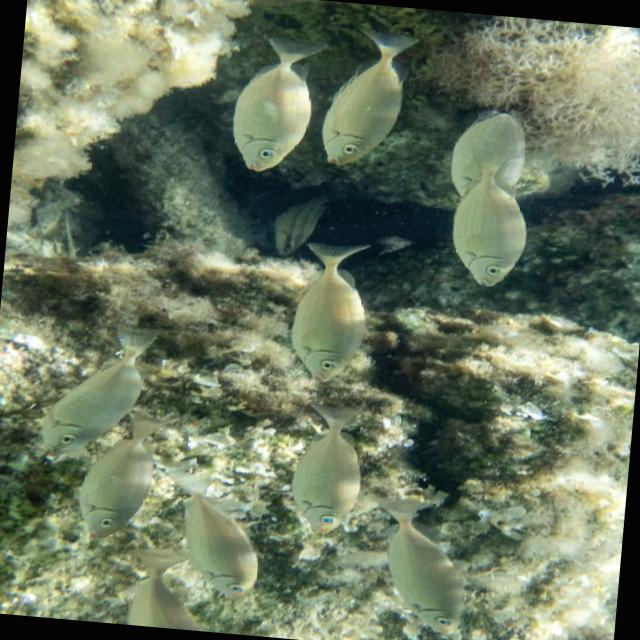Sokar Baligi: (310, 13, 442, 179), (359, 488, 490, 640), (442, 132, 562, 295), (274, 223, 388, 393), (214, 22, 330, 184), (270, 394, 390, 544)
